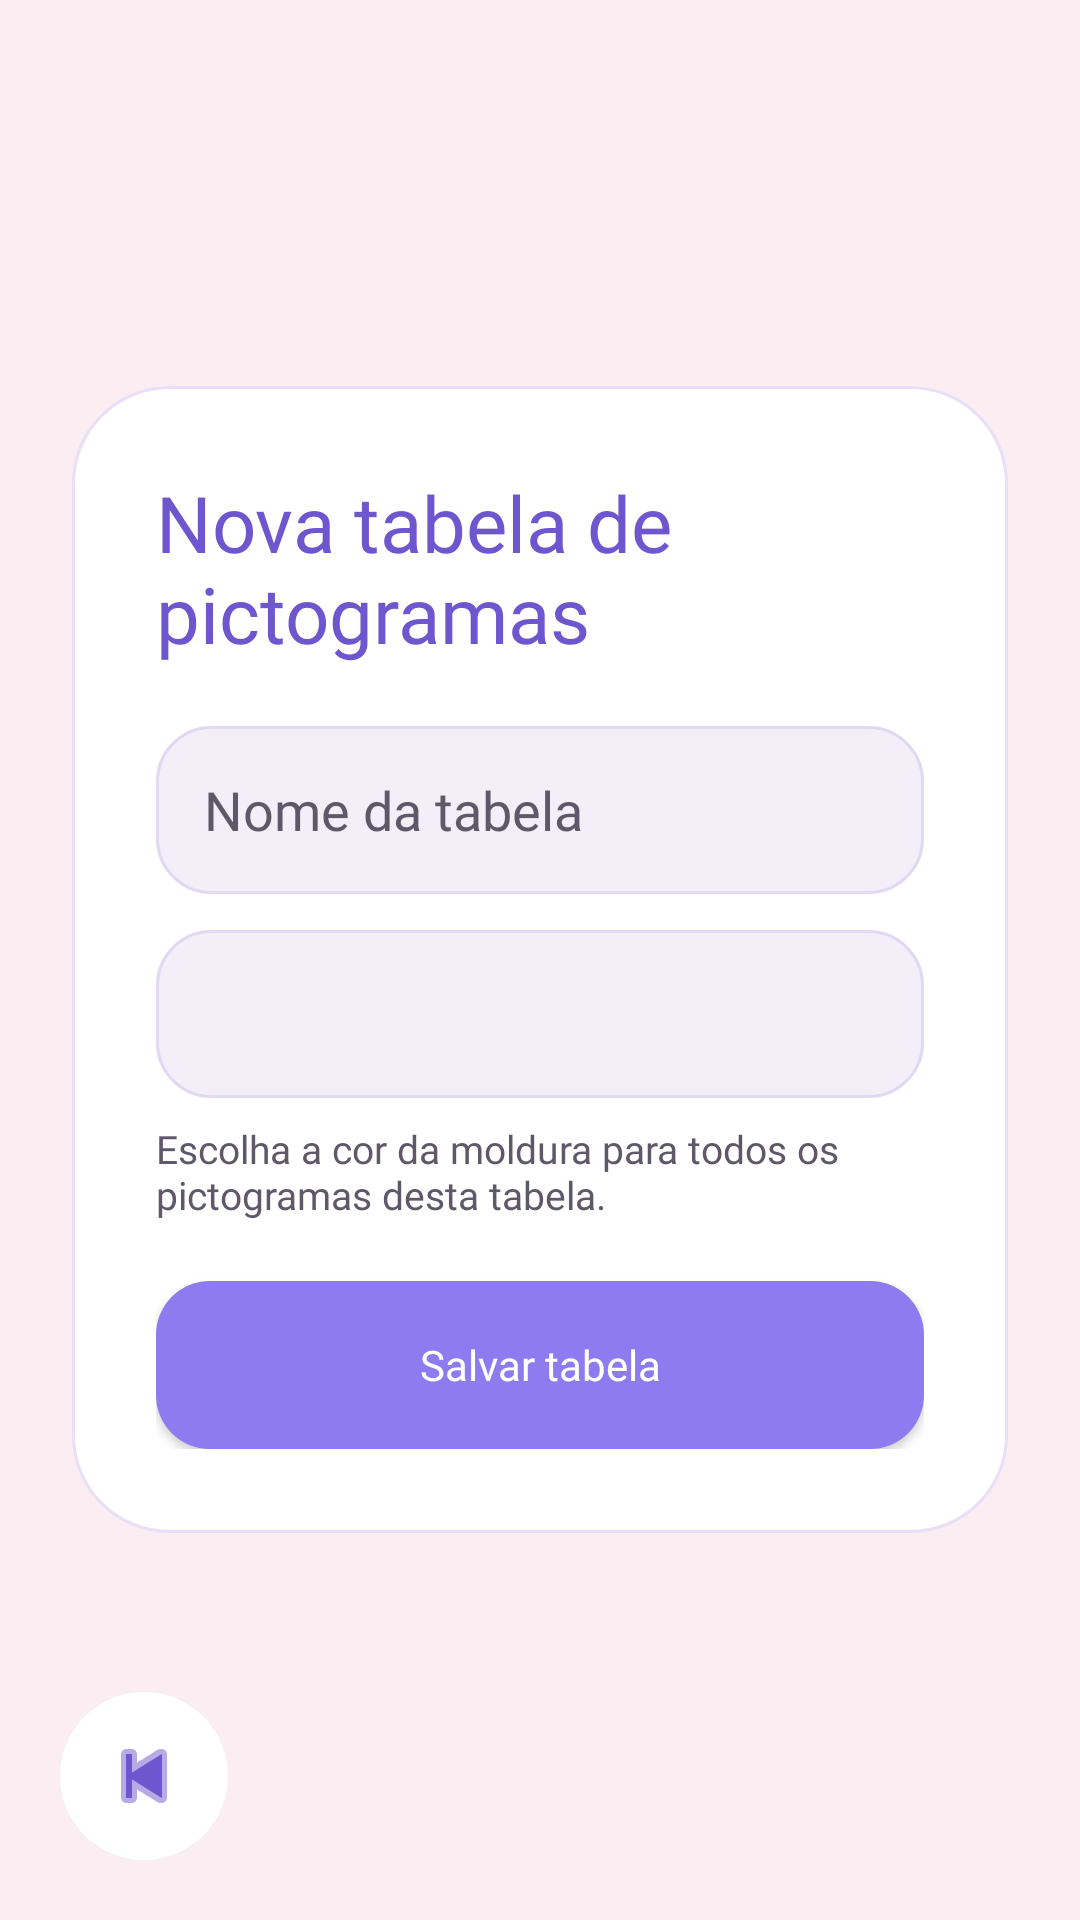

Named icons in this screenshot (1080*1920) and their bounding boxes, [x1, y1, x2, y2]:
previous: [121, 1749, 167, 1803]
